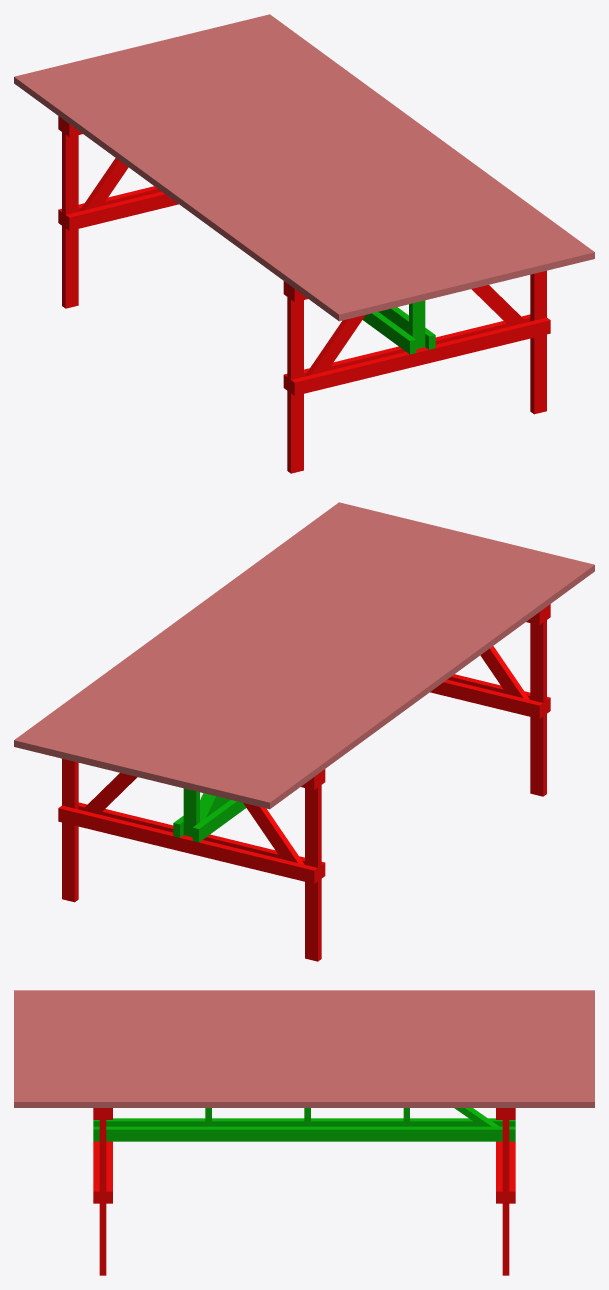
The model's file is result.glb.
The picture shows the model from 3 angles, top to bottom: view 1: azimuth 30°, elevation 25°; view 2: azimuth 150°, elevation 25°; view 3: azimuth 270°, elevation 25°; orthographic projection. The views are drawn at different scales.
Parts seen in each view (by area): view 1: 9be868c5-3356-4be3-b110-11ecec0e3a8b__Box, 32305e6f-84f9-4b2f-a740-c427e96ee81f__sideH, 401f062d-889b-4f0e-9b07-52e4873f9da2__undefined, 67de5143-c87d-4e9f-829a-a1d4f4a8a3d7__undefined, 004efcb6-5e30-4976-bb99-6ad60e37ce05__undefined, 37d7afc0-5620-419a-9f66-82fc93d4db1f__undefined, 6591c204-7674-4584-bd07-083ea1d51270__undefined, e82e2af8-2ec4-4e05-b400-a6fa8b96be5e__undefined, f8e75da6-285f-4efa-9311-227259551b69__undefined, 62cd5c94-abca-43fa-b247-f949c4ea1f6c__undefined, 4312b873-c392-4276-9c98-917fba1c299b__undefined, 396f9293-3ea1-4821-9f2a-da3b591cb660__undefined (+20 smaller); view 2: 9be868c5-3356-4be3-b110-11ecec0e3a8b__Box, 5e542e2c-da72-403f-9481-bb286436d946__undefined, 401f062d-889b-4f0e-9b07-52e4873f9da2__undefined, 67de5143-c87d-4e9f-829a-a1d4f4a8a3d7__undefined, 004efcb6-5e30-4976-bb99-6ad60e37ce05__undefined, 37d7afc0-5620-419a-9f66-82fc93d4db1f__undefined, 6591c204-7674-4584-bd07-083ea1d51270__undefined, e82e2af8-2ec4-4e05-b400-a6fa8b96be5e__undefined, f8e75da6-285f-4efa-9311-227259551b69__undefined, 62cd5c94-abca-43fa-b247-f949c4ea1f6c__undefined, 4312b873-c392-4276-9c98-917fba1c299b__undefined, 396f9293-3ea1-4821-9f2a-da3b591cb660__undefined (+19 smaller); view 3: c9733c11-c153-4db4-8f78-947c9f687e10__undefined, 267eebc6-450d-4a68-ab9c-4d072198ab88__strutH, 67de5143-c87d-4e9f-829a-a1d4f4a8a3d7__undefined, dbd1e2f4-2451-4413-bc16-935b908f143f__undefined, 3aa5aea6-e899-4eb9-ae9c-4f4ee89b9437__undefined, 37d7afc0-5620-419a-9f66-82fc93d4db1f__undefined, f8e75da6-285f-4efa-9311-227259551b69__undefined, 9be868c5-3356-4be3-b110-11ecec0e3a8b__Box, 28eaf302-cd22-47e8-b992-169551d9ce84__undefined, 62cd5c94-abca-43fa-b247-f949c4ea1f6c__undefined, 6a6352af-4138-4418-a771-0dcbcd84e066__undefined, f6cc37a9-518e-425e-8bab-cc17682b3771__undefined (+16 smaller).
Boxes of the visible parts, x1,y1,x2,y2 form: 9be868c5-3356-4be3-b110-11ecec0e3a8b__Box: (14,73,351,321); 32305e6f-84f9-4b2f-a740-c427e96ee81f__sideH: (291,317,550,395); 401f062d-889b-4f0e-9b07-52e4873f9da2__undefined: (244,17,582,264); 67de5143-c87d-4e9f-829a-a1d4f4a8a3d7__undefined: (40,67,377,314); 004efcb6-5e30-4976-bb99-6ad60e37ce05__undefined: (116,48,454,296); 37d7afc0-5620-419a-9f66-82fc93d4db1f__undefined: (155,39,492,286); 6591c204-7674-4584-bd07-083ea1d51270__undefined: (168,36,505,283); e82e2af8-2ec4-4e05-b400-a6fa8b96be5e__undefined: (180,33,518,280); f8e75da6-285f-4efa-9311-227259551b69__undefined: (219,23,556,271); 62cd5c94-abca-43fa-b247-f949c4ea1f6c__undefined: (53,64,390,311); 4312b873-c392-4276-9c98-917fba1c299b__undefined: (232,20,569,267); 396f9293-3ea1-4821-9f2a-da3b591cb660__undefined: (104,52,441,299); 9be868c5-3356-4be3-b110-11ecec0e3a8b__Box: (257,561,594,809); 5e542e2c-da72-403f-9481-bb286436d946__undefined: (58,805,317,883); 401f062d-889b-4f0e-9b07-52e4873f9da2__undefined: (26,505,364,752); 67de5143-c87d-4e9f-829a-a1d4f4a8a3d7__undefined: (231,555,568,802); 004efcb6-5e30-4976-bb99-6ad60e37ce05__undefined: (154,536,492,784); 37d7afc0-5620-419a-9f66-82fc93d4db1f__undefined: (116,527,453,774); 6591c204-7674-4584-bd07-083ea1d51270__undefined: (103,524,440,771); e82e2af8-2ec4-4e05-b400-a6fa8b96be5e__undefined: (90,521,428,768); f8e75da6-285f-4efa-9311-227259551b69__undefined: (52,511,389,759); 62cd5c94-abca-43fa-b247-f949c4ea1f6c__undefined: (218,552,555,799); 4312b873-c392-4276-9c98-917fba1c299b__undefined: (39,508,376,755); 396f9293-3ea1-4821-9f2a-da3b591cb660__undefined: (167,540,504,787); c9733c11-c153-4db4-8f78-947c9f687e10__undefined: (14,1096,594,1107); 267eebc6-450d-4a68-ab9c-4d072198ab88__strutH: (93,1126,515,1141); 67de5143-c87d-4e9f-829a-a1d4f4a8a3d7__undefined: (14,1001,594,1007); dbd1e2f4-2451-4413-bc16-935b908f143f__undefined: (14,1012,594,1018); 3aa5aea6-e899-4eb9-ae9c-4f4ee89b9437__undefined: (14,1040,594,1046); 37d7afc0-5620-419a-9f66-82fc93d4db1f__undefined: (14,1051,594,1057); f8e75da6-285f-4efa-9311-227259551b69__undefined: (14,1079,594,1085); 9be868c5-3356-4be3-b110-11ecec0e3a8b__Box: (14,990,594,995); 28eaf302-cd22-47e8-b992-169551d9ce84__undefined: (14,996,594,1001); 62cd5c94-abca-43fa-b247-f949c4ea1f6c__undefined: (14,1007,594,1012); 6a6352af-4138-4418-a771-0dcbcd84e066__undefined: (14,1018,594,1023); f6cc37a9-518e-425e-8bab-cc17682b3771__undefined: (14,1024,594,1029).
Size of the model in its own units: 1000 by 725 by 2200.
